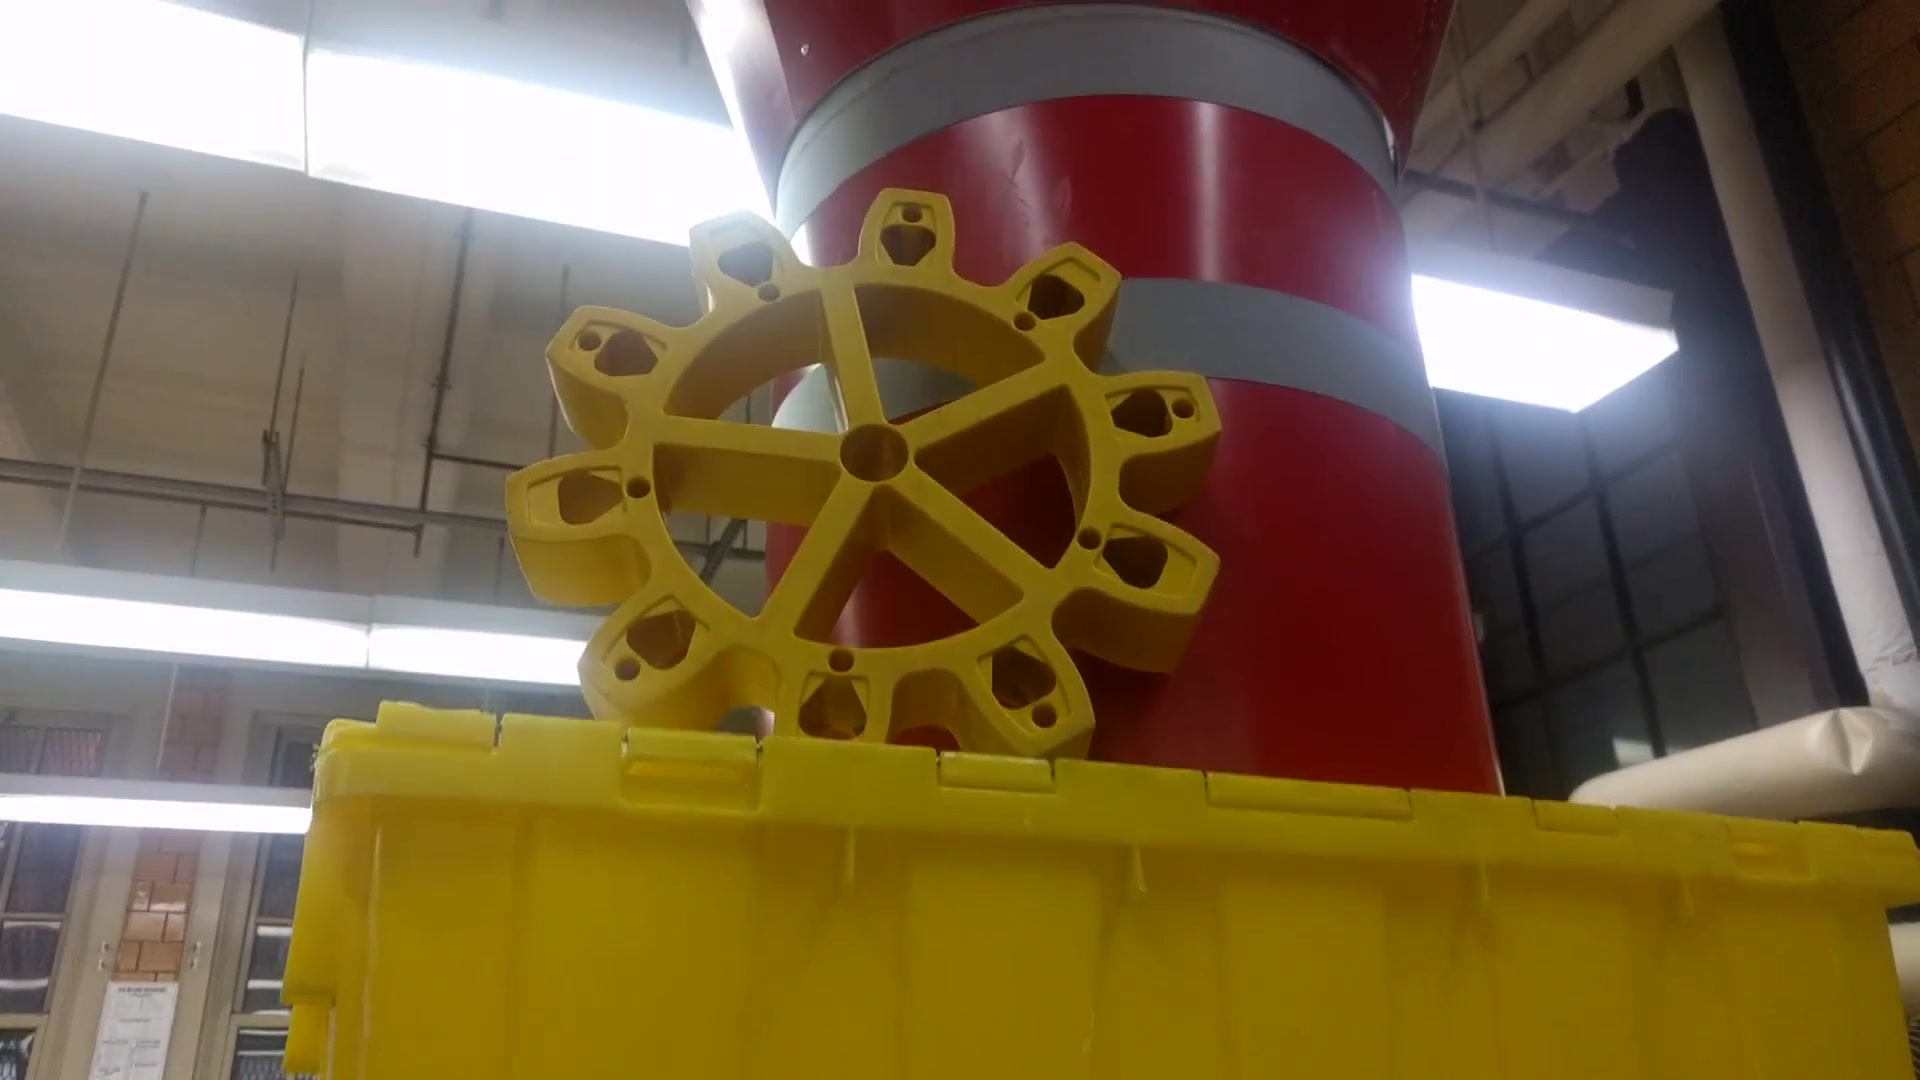gear: (495, 174, 1218, 767)
